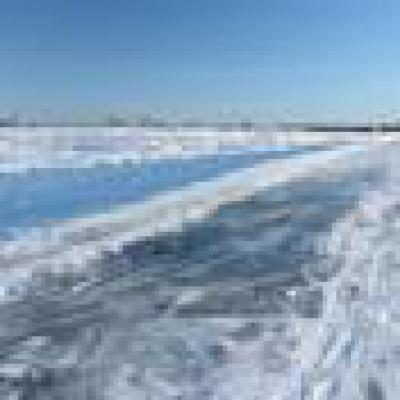iced-road: (0, 168, 364, 400)
